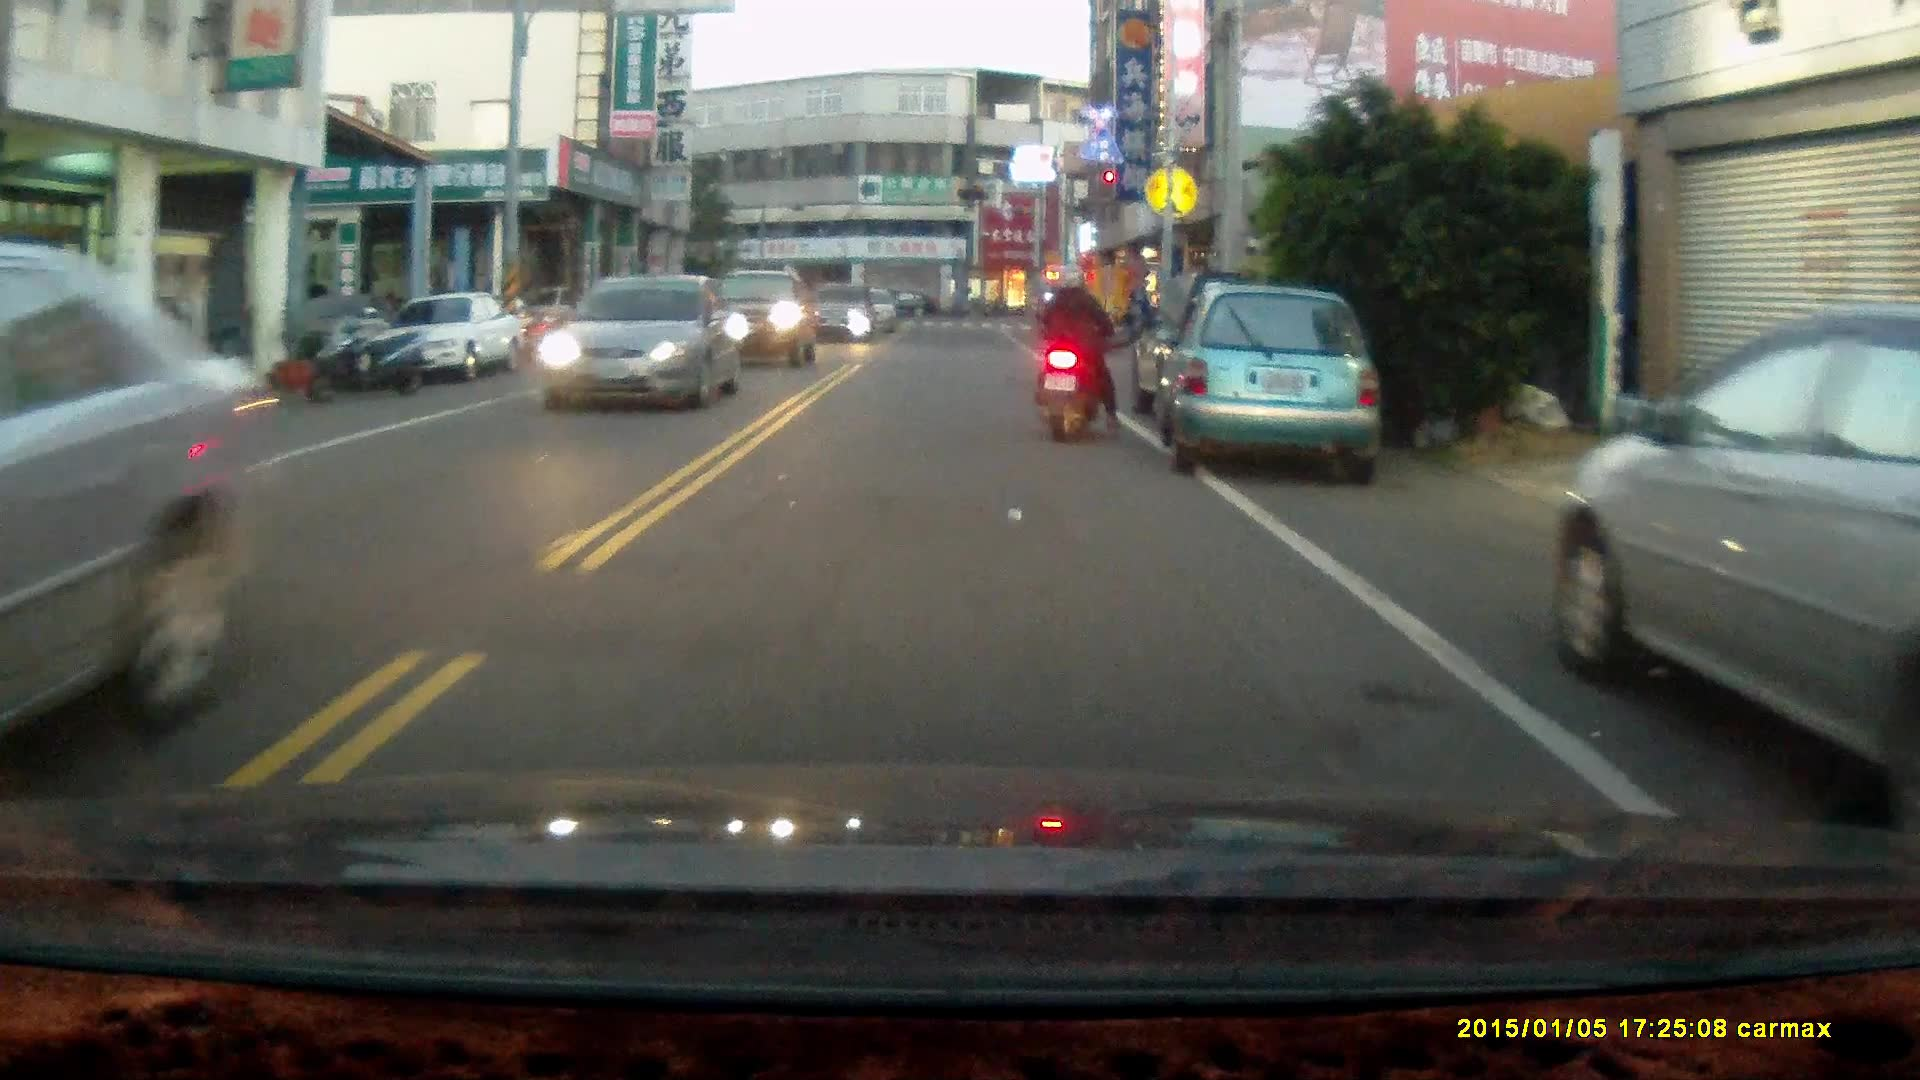rider: (1031, 266, 1122, 442)
vehicle: (1568, 334, 1920, 814), (1162, 280, 1387, 489), (544, 274, 742, 413), (378, 292, 529, 386), (696, 270, 826, 374)
